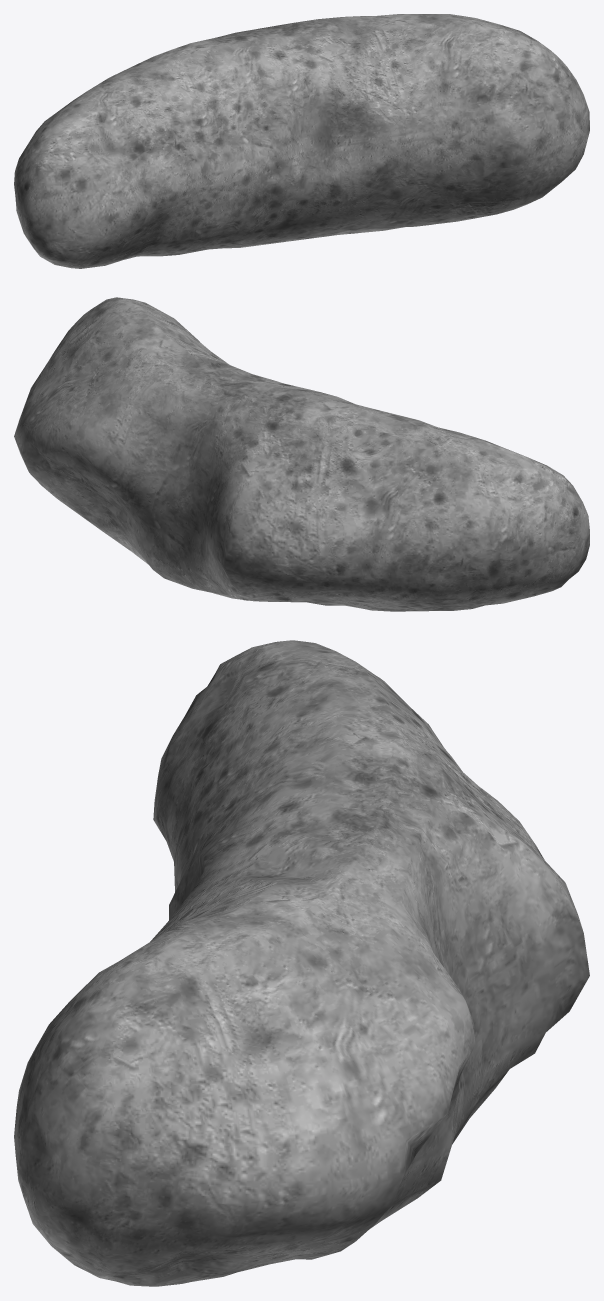
File: eros.glb
The picture shows the model from 3 angles, top to bottom: view 1: azimuth 30°, elevation 25°; view 2: azimuth 150°, elevation 25°; view 3: azimuth 270°, elevation 25°; orthographic projection. The views are drawn at different scales.
Visible parts, largest first — view 1: eros_LP; view 2: eros_LP; view 3: eros_LP.
Boxes of the visible parts, x1,y1,x2,y2 form: eros_LP: [14, 14, 589, 268]; eros_LP: [14, 297, 589, 611]; eros_LP: [14, 640, 589, 1286].
Bounding box in the file's own units: 3260 × 1185 × 1681.
1 material, 1 textured.
